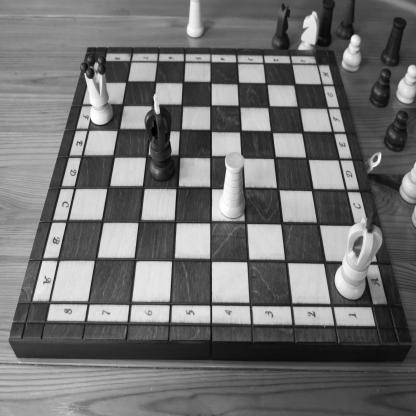black-bishop: (336, 0, 356, 40)
black-king: (144, 94, 175, 182)
black-knight: (271, 2, 291, 50)
black-pawn: (383, 109, 409, 153), (369, 67, 392, 109)
black-rook: (381, 17, 407, 66), (316, 0, 335, 47)
white-king: (334, 209, 383, 300)
white-knight: (298, 10, 320, 51)
white-pawn: (395, 64, 416, 106), (341, 34, 362, 74), (399, 161, 415, 206)
white-queen: (80, 54, 114, 126)
white-rook: (219, 150, 246, 219), (186, 0, 205, 39)
